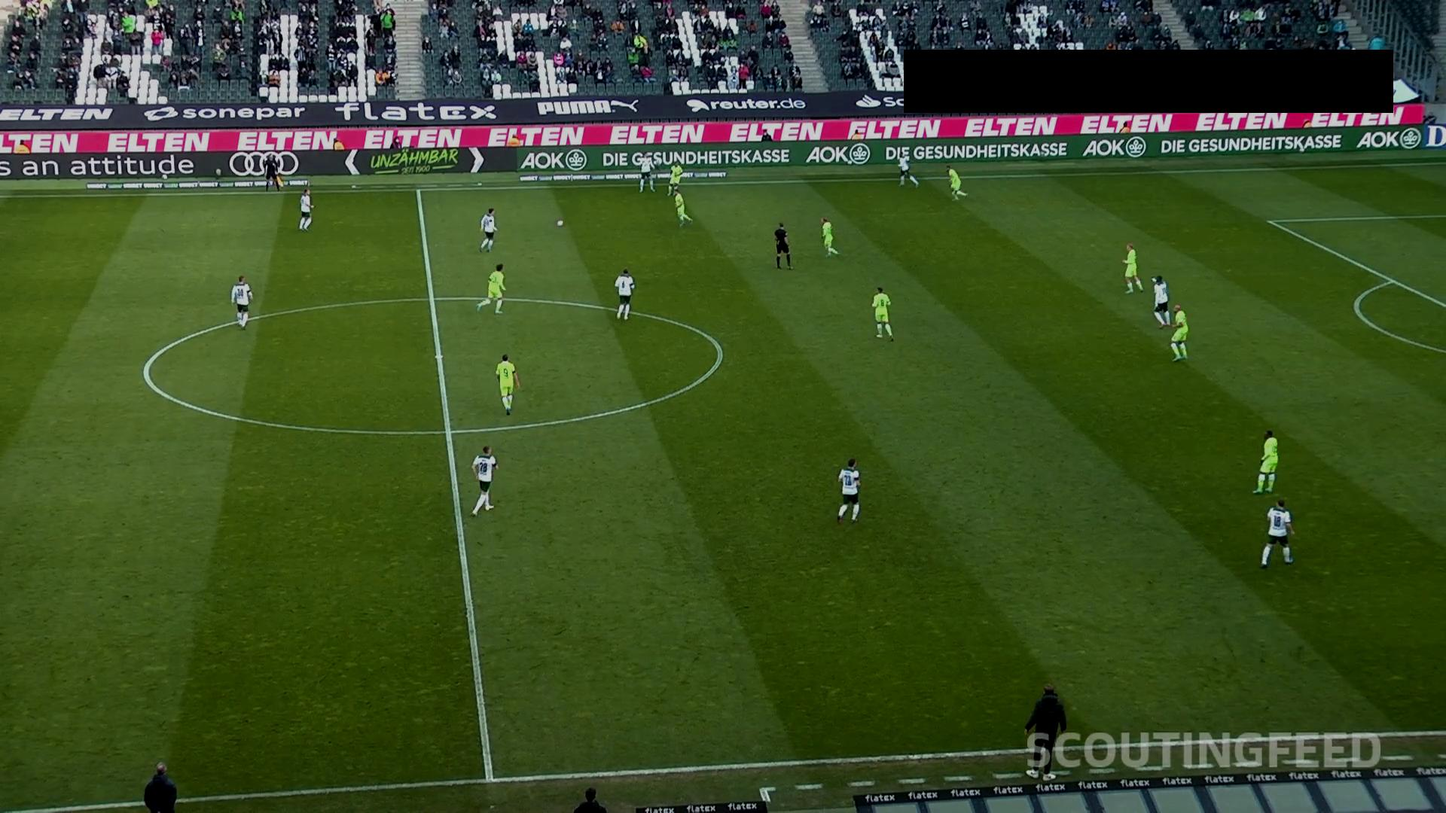ball: (555, 219, 566, 228)
player: (1263, 500, 1295, 571), (471, 446, 499, 518), (837, 458, 865, 525), (1255, 430, 1280, 495), (871, 285, 898, 343), (477, 264, 508, 313), (496, 354, 520, 417), (231, 274, 255, 333), (615, 268, 638, 323), (1171, 303, 1189, 365), (1123, 242, 1144, 293), (673, 189, 698, 229), (1151, 276, 1170, 328), (945, 163, 970, 202), (298, 187, 319, 230), (480, 209, 500, 254), (820, 218, 840, 259), (898, 152, 921, 187), (638, 152, 657, 194), (669, 160, 683, 196)
refree: (774, 221, 795, 269), (262, 152, 284, 193)
